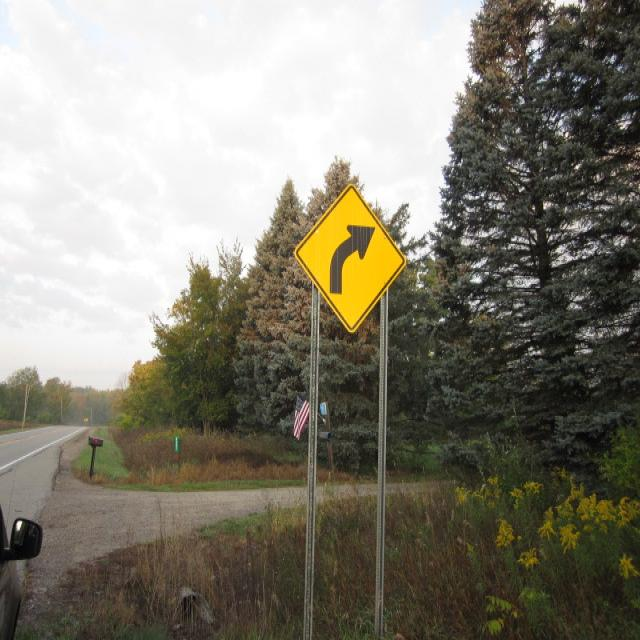warning: (295, 182, 406, 334)
